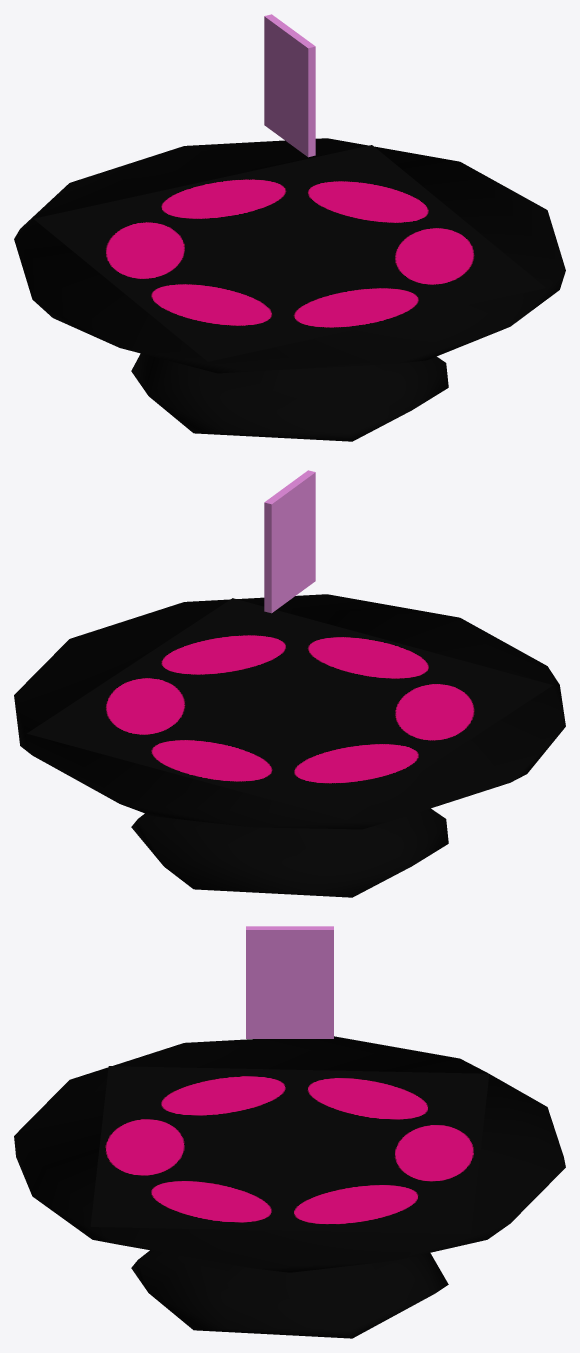
Rendered from table.gltf.
The picture shows the model from 3 angles, top to bottom: view 1: azimuth 30°, elevation 25°; view 2: azimuth 150°, elevation 25°; view 3: azimuth 270°, elevation 25°; orthographic projection.
Parts seen in each view (by area): view 1: Plane, Cube; view 2: Plane, Cube; view 3: Plane, Cube.
Part boxes in pixels (x1,y1,x2,y2): Plane: (14,138,565,441); Cube: (264,14,315,157); Plane: (14,594,565,897); Cube: (264,470,315,613); Plane: (14,1036,565,1338); Cube: (246,926,333,1038).
Size of what is drawn, in the model's own units: 3.76 by 2.64 by 3.76.
3 materials, 1 textured.
